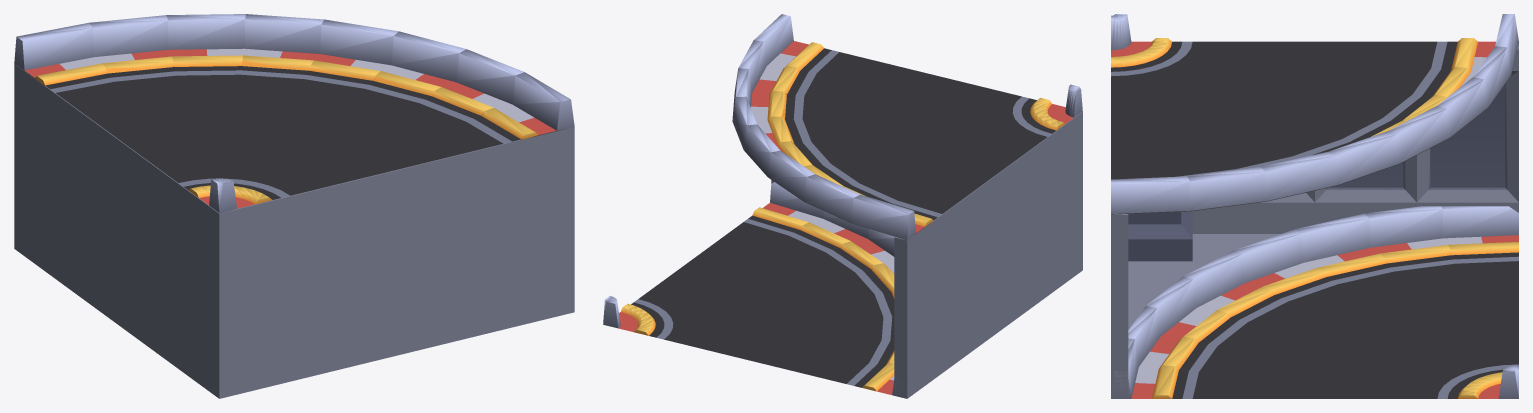
File: elev-cross-corners.glb
3 views of the same model, side by side, from view 1: azimuth 30°, elevation 25°; view 2: azimuth 150°, elevation 25°; view 3: azimuth 270°, elevation 25° (orthographic). The views are drawn at different scales.
Visible parts, largest first — view 1: track-corner.004; view 2: track-corner.004; view 3: track-corner.004.
Boxes of the visible parts, x1,y1,x2,y2 form: track-corner.004: (14,14,574,398); track-corner.004: (603,14,1082,398); track-corner.004: (1111,14,1518,398).
Size of the model in its own units: 10 by 5.75 by 10.
Materials: 2 (2 with a texture image).
